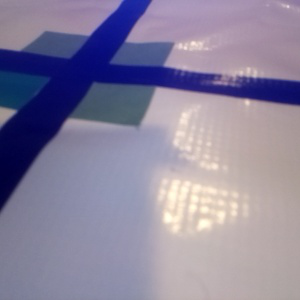bottom_left: (1, 59, 70, 110)
bottom_right: (51, 65, 155, 127)
top_left: (21, 32, 109, 74)
top_right: (81, 43, 174, 82)
